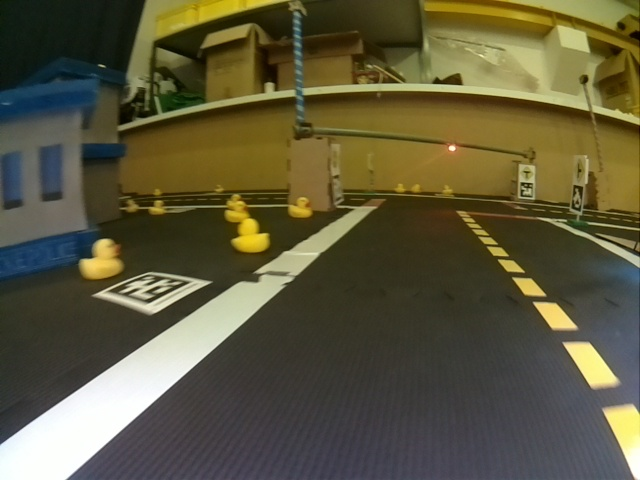Duckie: (80, 240, 124, 275), (233, 219, 265, 252), (225, 204, 249, 222), (288, 198, 313, 214), (228, 195, 241, 207), (151, 201, 161, 215), (412, 184, 421, 192), (396, 184, 406, 191), (443, 187, 449, 194)
Intersection sign: (520, 164, 535, 180), (574, 156, 585, 177)
QR code: (98, 272, 209, 309), (331, 177, 344, 203), (571, 185, 581, 213), (520, 182, 532, 197)
Traffic light: (447, 142, 457, 154)
